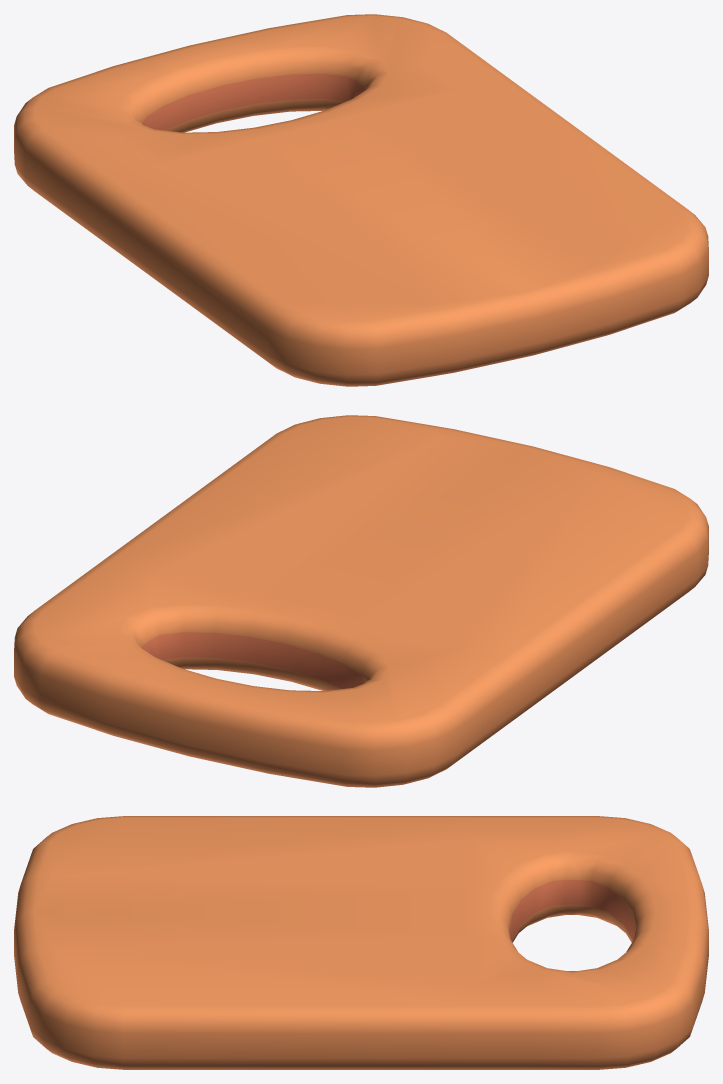
Rendered from Cutting_board_01.glb.
3 renders of one model, top to bottom at view 1: azimuth 30°, elevation 25°; view 2: azimuth 150°, elevation 25°; view 3: azimuth 270°, elevation 25°, orthographic. The views are drawn at different scales.
Visible parts, largest first — view 1: Cutting_board_01; view 2: Cutting_board_01; view 3: Cutting_board_01.
Boxes of the visible parts, left/top/right/bottom form: Cutting_board_01: left=14, top=14, right=708, bottom=386; Cutting_board_01: left=14, top=415, right=708, bottom=787; Cutting_board_01: left=14, top=816, right=708, bottom=1069.
Bounding box in the file's own units: 0.25 × 0.035 × 0.3569.
1 material, 1 textured.
